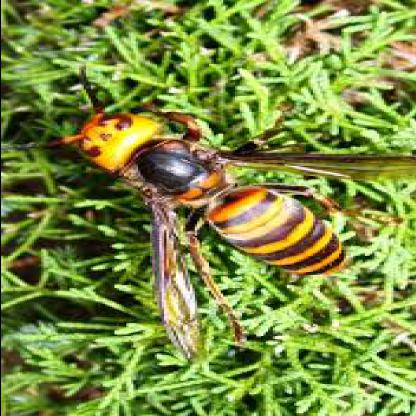european: (9, 100, 395, 352)
